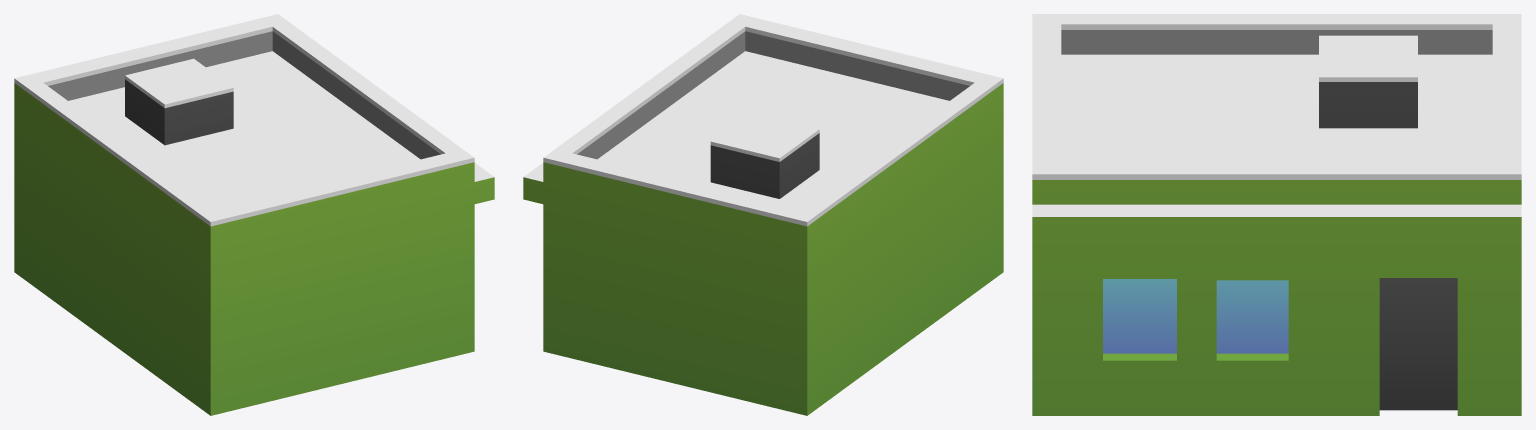
The model's file is build2.fbx.
3 renders of one model, left to right at view 1: azimuth 30°, elevation 25°; view 2: azimuth 150°, elevation 25°; view 3: azimuth 270°, elevation 25°, orthographic. The views are drawn at different scales.
Visible parts, largest first — view 1: pCube25; view 2: pCube25; view 3: pCube25.
Boxes of the visible parts, bbox=[...] form: pCube25: bbox=[14, 14, 494, 415]; pCube25: bbox=[523, 14, 1003, 415]; pCube25: bbox=[1032, 14, 1521, 415].
Bounding box in the file's own units: 4.12 × 2.92 × 4.93.
